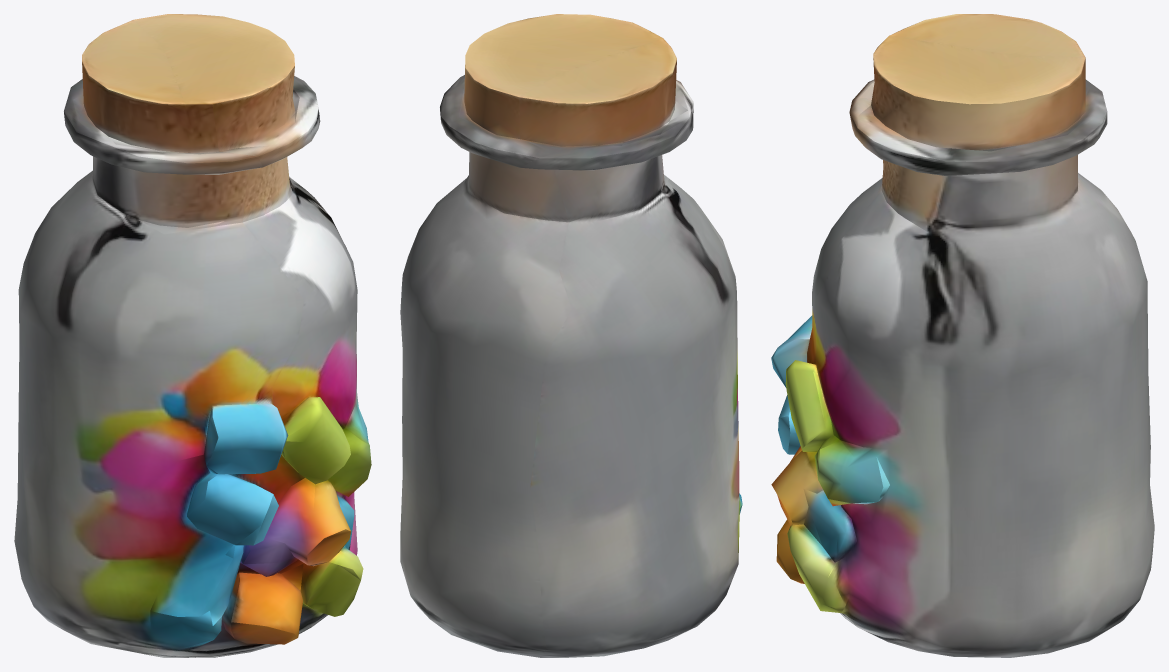
File: potionJar.glb
3 renders of one model, left to right at view 1: azimuth 30°, elevation 25°; view 2: azimuth 150°, elevation 25°; view 3: azimuth 270°, elevation 25°, orthographic.
Visible parts, largest first — view 1: model; view 2: model; view 3: model.
Part boxes in pixels (x1,y1,x2,y2): model: [14, 14, 371, 657]; model: [400, 14, 742, 657]; model: [771, 14, 1154, 657].
Size of the model in its own units: 1.08 by 1.89 by 1.21.
1 material, 1 textured.
